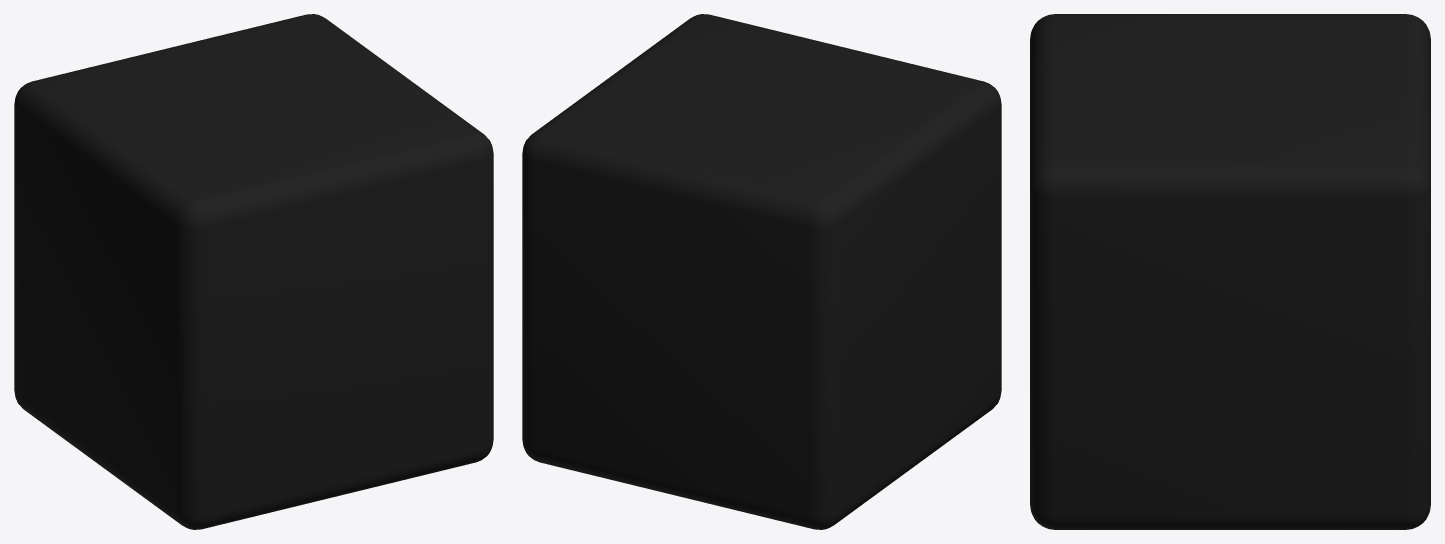
Rendered from Kostka_Siatka.fbx.
The picture shows the model from 3 angles, left to right: view 1: azimuth 30°, elevation 25°; view 2: azimuth 150°, elevation 25°; view 3: azimuth 270°, elevation 25°; orthographic projection. The views are drawn at different scales.
Parts seen in each view (by area): view 1: Kostka; view 2: Kostka; view 3: Kostka.
Part boxes in pixels (bbox=[...]): Kostka: bbox=[14, 14, 493, 529]; Kostka: bbox=[522, 14, 1001, 529]; Kostka: bbox=[1030, 14, 1430, 529].
Size of the model in its own units: 13.29 by 13.29 by 13.29.
